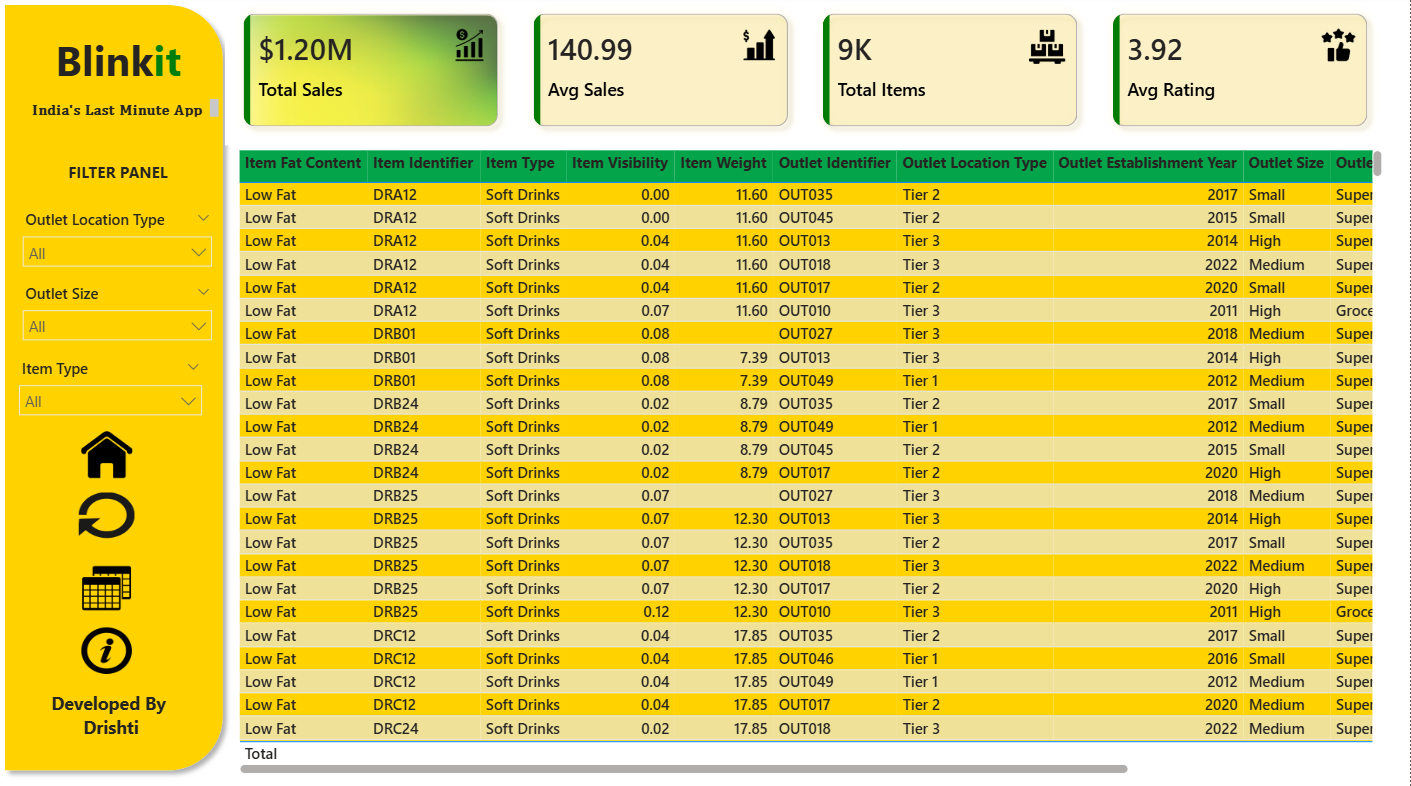

The dashboard page shown, as its layout file describes it:
{"tool":"powerbi","page":{"name":"Table","canvas":[1280,720],"ordinal":1},"visuals":[{"type":"textbox","box":[29.1,18.6,144.2,60.5],"z":0},{"type":"textbox","box":[11.6,79.1,186,25.6],"z":1000},{"type":"slicer","fields":{"Values":["BlinkIT Grocery Data.Outlet Location Type"]},"box":[15.1,170.9,191.9,67.4],"z":2000},{"type":"slicer","fields":{"Values":["BlinkIT Grocery Data.Outlet Size"]},"box":[15.1,246.5,191.9,67.4],"z":3000},{"type":"slicer","fields":{"Values":["BlinkIT Grocery Data.Item Type"]},"box":[11.6,314,186,68.6],"z":4000},{"type":"textbox","box":[15.1,136,173.3,34.9],"z":5000},{"type":"actionButton","box":[77.9,391.9,50,46.5],"z":6000},{"type":"actionButton","box":[77.9,450,50,41.9],"z":7000},{"type":"actionButton","box":[77.9,502.3,50,46.5],"z":8000},{"type":"actionButton","box":[76.7,559.3,50,46.5],"z":9000},{"type":"textbox","box":[15.1,616.3,173.3,69.8],"z":10000},{"type":"shape","box":[0,0,215.1,710.5],"z":11000},{"type":"textbox","box":[39.1,28.6,144.2,60.5],"z":12000},{"type":"textbox","box":[21.6,89.1,186,25.6],"z":13000},{"type":"slicer","fields":{"Values":["BlinkIT Grocery Data.Outlet Location Type"]},"box":[15.1,188.4,191.9,67.4],"z":14000},{"type":"slicer","fields":{"Values":["BlinkIT Grocery Data.Outlet Size"]},"box":[15.1,255.8,191.9,67.4],"z":15000},{"type":"slicer","fields":{"Values":["BlinkIT Grocery Data.Item Type"]},"box":[11.6,323.3,186,68.6],"z":16000},{"type":"textbox","box":[25.1,146,173.3,34.9],"z":17000},{"type":"actionButton","box":[75.6,391.9,50,46.5],"z":18000},{"type":"actionButton","box":[75.6,450,50,41.9],"z":19000},{"type":"actionButton","box":[75.6,512.8,50,46.5],"z":20000},{"type":"actionButton","box":[75.6,569.8,50,46.5],"z":21000},{"type":"textbox","box":[12.8,624.4,184.9,61.6],"z":22000},{"type":"cardVisual","fields":{"Data":["BlinkIT Grocery Data.Total Sales","BlinkIT Grocery Data.Avg Sales","BlinkIT Grocery Data.Total Items","BlinkIT Grocery Data.Avg Rating"]},"box":[208.1,0,1052.3,136],"z":23000},{"type":"tableEx","fields":{"Values":["BlinkIT Grocery Data.Item Fat Content","BlinkIT Grocery Data.Item Identifier","BlinkIT Grocery Data.Item Type","BlinkIT Grocery Data.Item Visibility","BlinkIT Grocery Data.Item Weight","BlinkIT Grocery Data.Outlet Identifier","BlinkIT Grocery Data.Outlet Location Type","BlinkIT Grocery Data.Outlet Establishment Year","BlinkIT Grocery Data.Outlet Size","BlinkIT Grocery Data.Outlet Type","Sum(BlinkIT Grocery Data.Rating)","Sum(BlinkIT Grocery Data.Sales)"]},"box":[215,136,1045,574],"z":24000}]}

Visuals, with their boxes in screenshot pixels (x1, y1, x2, y2), scaled from the page's 1280x720 canvas onto the 1411x786 screenshot:
textbox: <bbox>32, 20, 191, 86</bbox>
textbox: <bbox>13, 86, 218, 114</bbox>
slicer - BlinkIT Grocery Data.Outlet Location Type: <bbox>17, 187, 228, 260</bbox>
slicer - BlinkIT Grocery Data.Outlet Size: <bbox>17, 269, 228, 343</bbox>
slicer - BlinkIT Grocery Data.Item Type: <bbox>13, 343, 218, 418</bbox>
textbox: <bbox>17, 148, 208, 187</bbox>
actionButton: <bbox>86, 428, 141, 479</bbox>
actionButton: <bbox>86, 491, 141, 537</bbox>
actionButton: <bbox>86, 548, 141, 599</bbox>
actionButton: <bbox>85, 611, 140, 661</bbox>
textbox: <bbox>17, 673, 208, 749</bbox>
shape: <bbox>0, 0, 237, 776</bbox>
textbox: <bbox>43, 31, 202, 97</bbox>
textbox: <bbox>24, 97, 229, 125</bbox>
slicer - BlinkIT Grocery Data.Outlet Location Type: <bbox>17, 206, 228, 279</bbox>
slicer - BlinkIT Grocery Data.Outlet Size: <bbox>17, 279, 228, 353</bbox>
slicer - BlinkIT Grocery Data.Item Type: <bbox>13, 353, 218, 428</bbox>
textbox: <bbox>28, 159, 219, 197</bbox>
actionButton: <bbox>83, 428, 138, 479</bbox>
actionButton: <bbox>83, 491, 138, 537</bbox>
actionButton: <bbox>83, 560, 138, 611</bbox>
actionButton: <bbox>83, 622, 138, 673</bbox>
textbox: <bbox>14, 682, 218, 749</bbox>
cardVisual - BlinkIT Grocery Data.Total Sales x BlinkIT Grocery Data.Avg Sales: <bbox>229, 0, 1389, 148</bbox>
tableEx - BlinkIT Grocery Data.Item Fat Content x BlinkIT Grocery Data.Item Identifier: <bbox>237, 148, 1389, 775</bbox>
